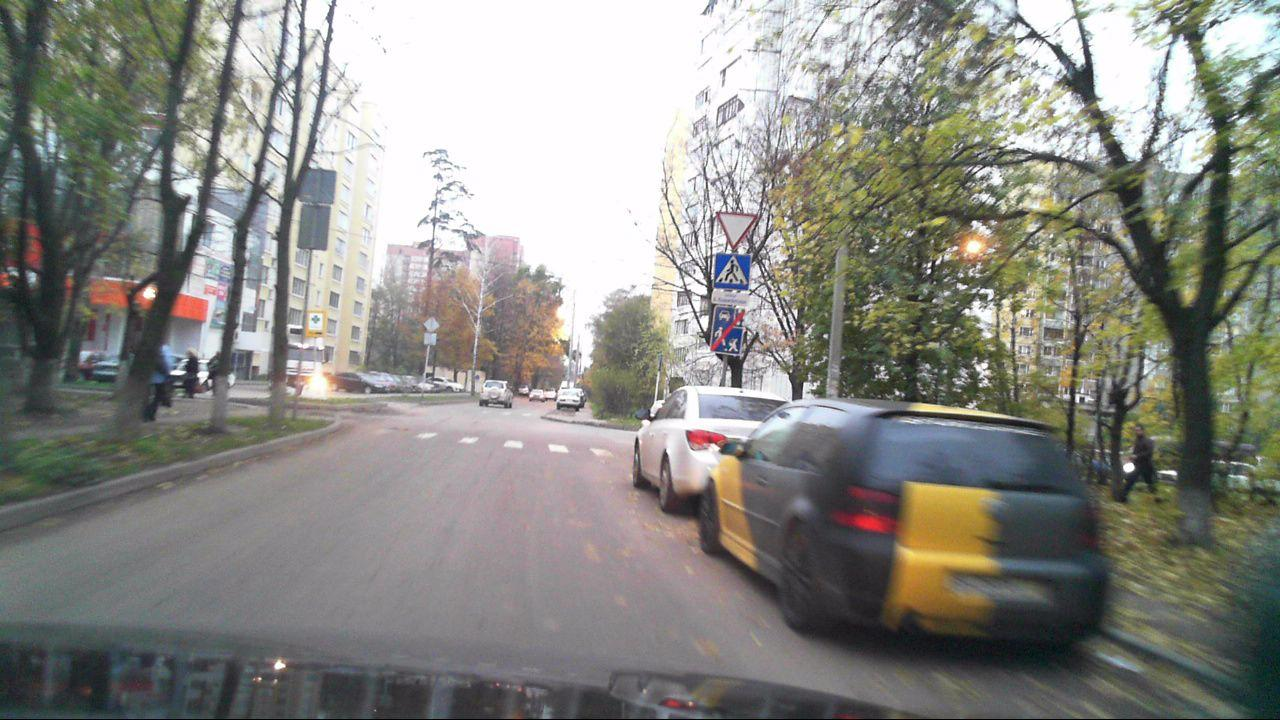2_4: (715, 210, 760, 245)
5_19_1: (713, 250, 753, 291)
5_22: (709, 308, 743, 355)
